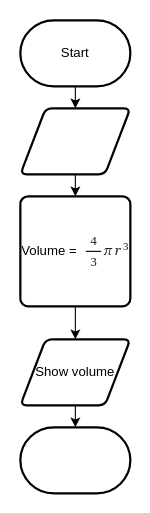
The diagram is 150 pixels wide and 513 high, and some of its shapes have lost their labels. The shapes that lost their labels are listed below. From the top down, each one's centre as x and y in pixels, then its label:
At point (75, 141): "Enter radius".
At point (75, 460): "Stop".
